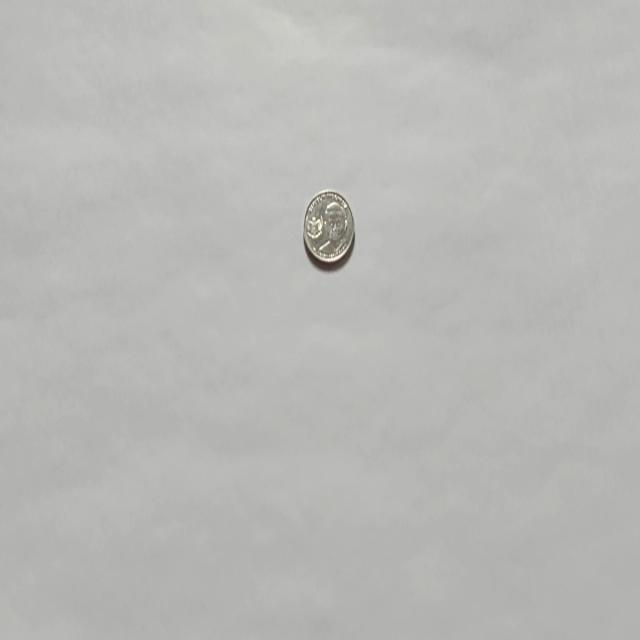seribu rupiah koin: (302, 188, 355, 266)
